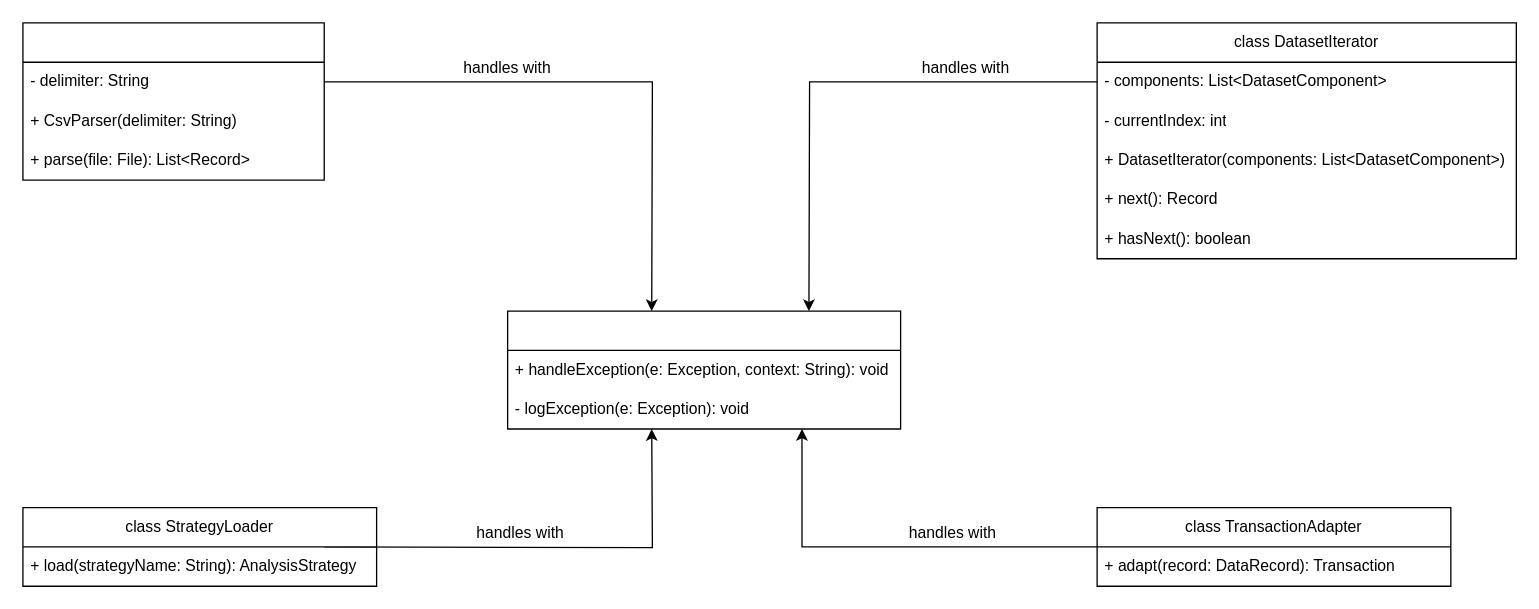
The diagram is 1539 pixels wide and 609 high, and some of its shapes have lost their labels. Each missing label, with the box of its shape:
class CSVParser: (22, 22, 324, 180)
class ExceptionManager: (506, 310, 901, 429)
